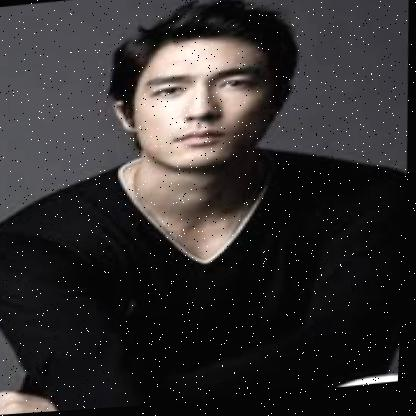person: (103, 0, 297, 179)
